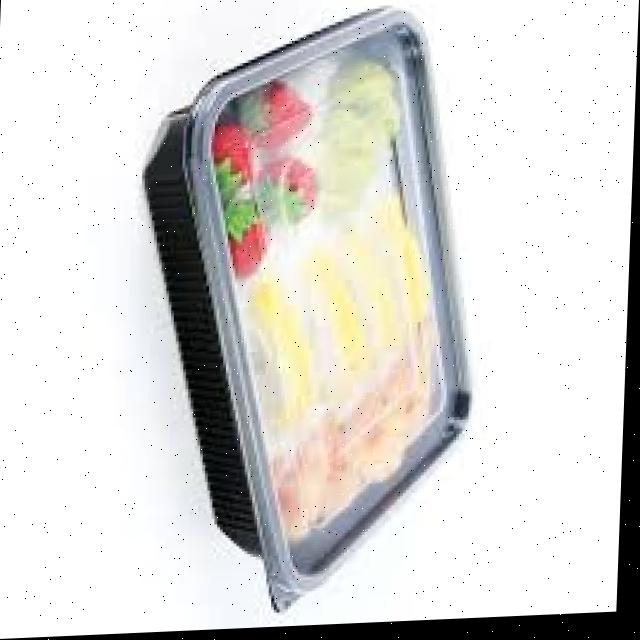disposable: (110, 0, 514, 636)
